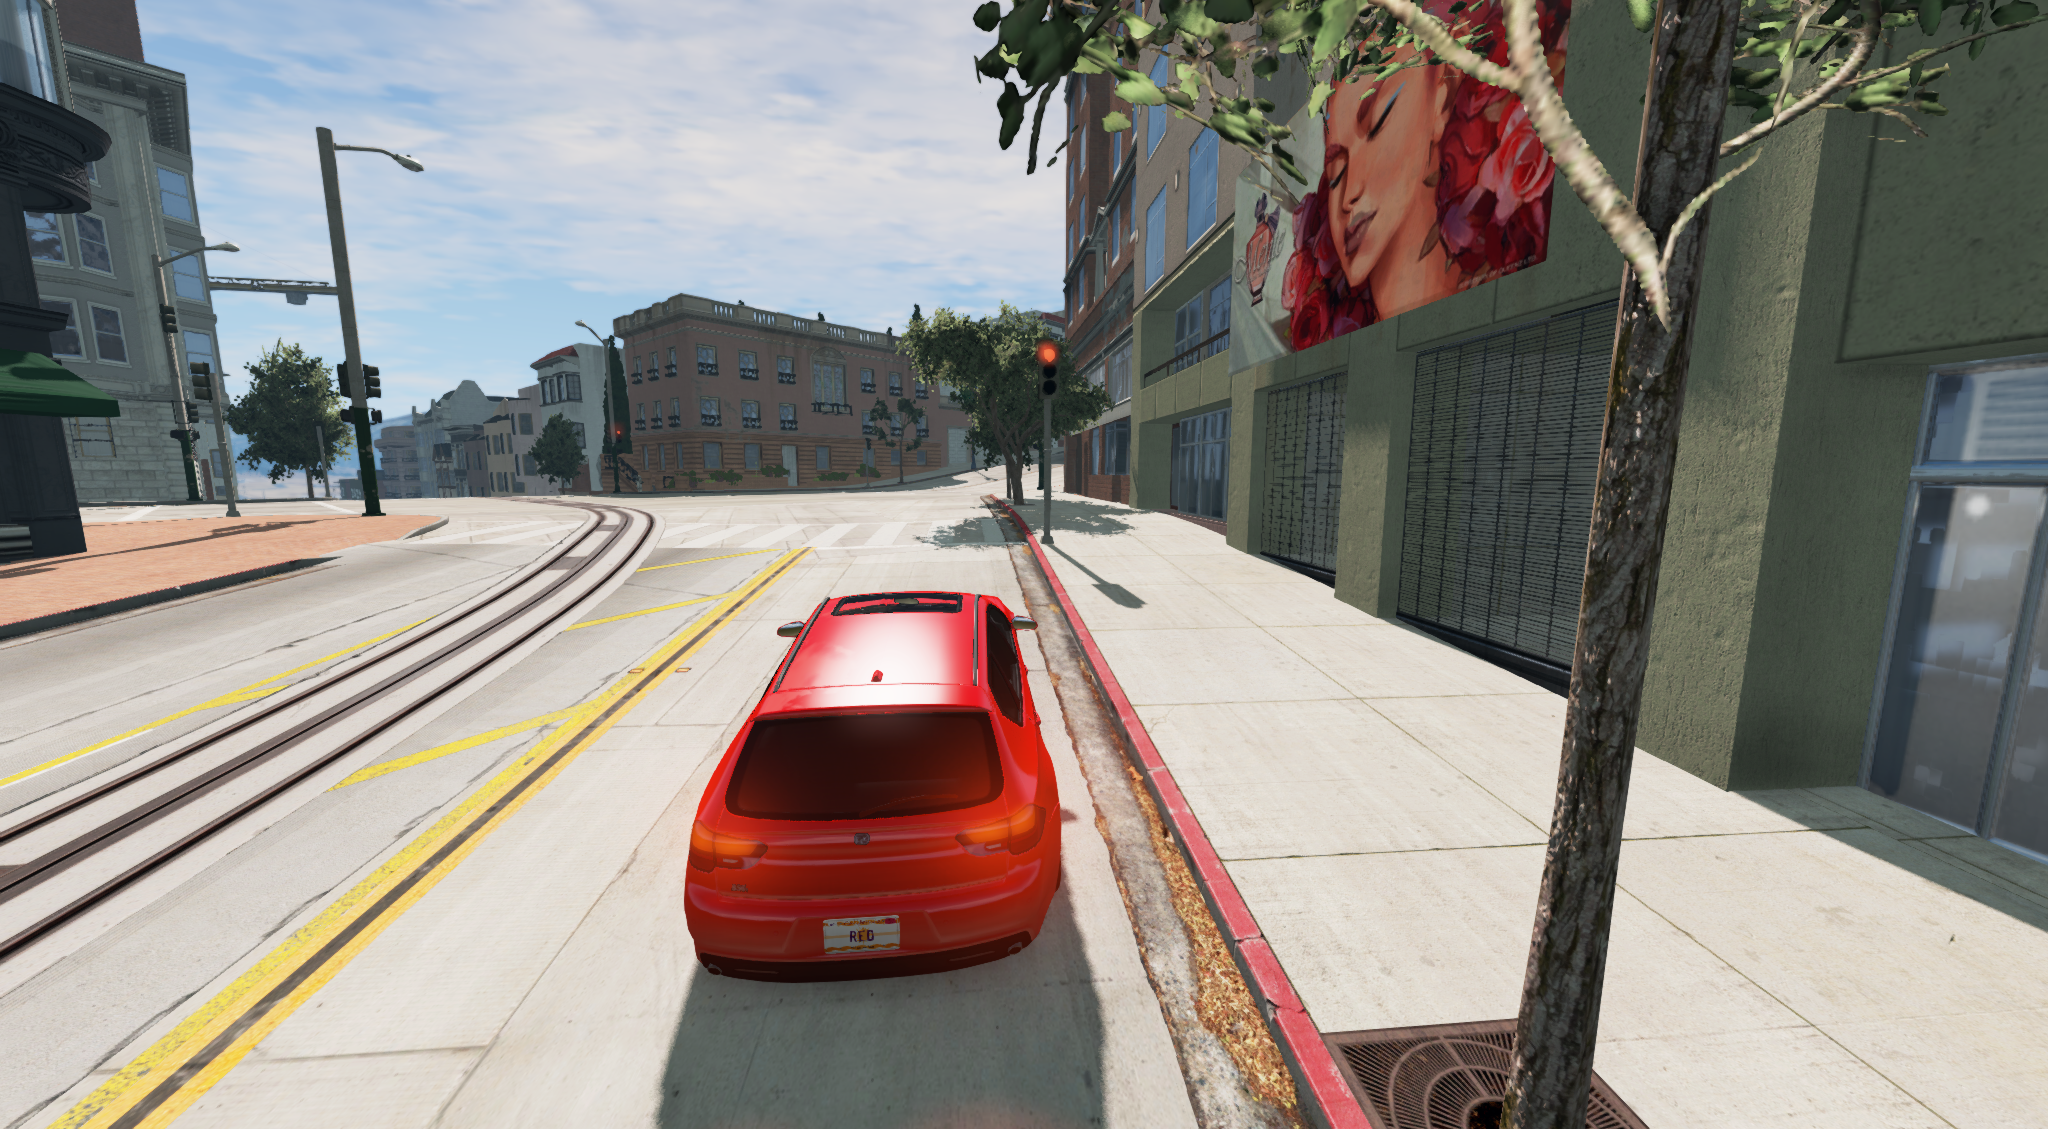red: (1033, 345, 1064, 402)
